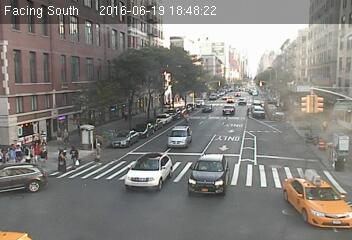neg: (94, 89, 120, 124), (201, 174, 223, 203), (277, 172, 298, 200), (5, 102, 25, 129), (39, 80, 58, 105), (125, 168, 143, 192), (141, 107, 156, 127), (322, 158, 336, 176), (87, 117, 96, 129)
pos: (50, 142, 71, 169), (90, 141, 108, 165), (66, 144, 83, 167), (24, 145, 40, 166), (46, 124, 61, 145), (319, 114, 333, 133), (4, 146, 16, 163), (62, 127, 74, 144)
